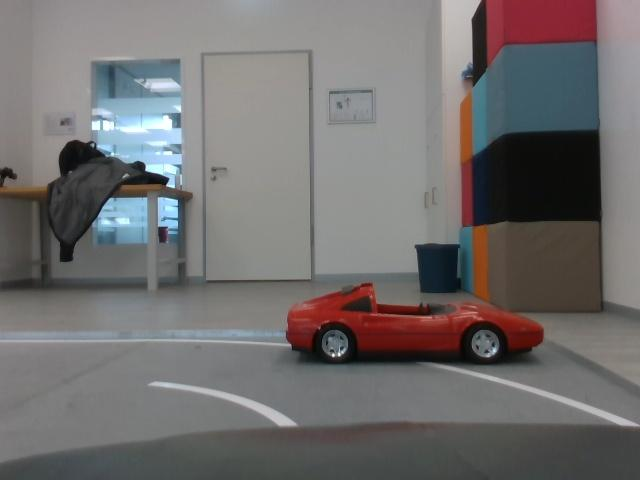car: (284, 278, 553, 372)
